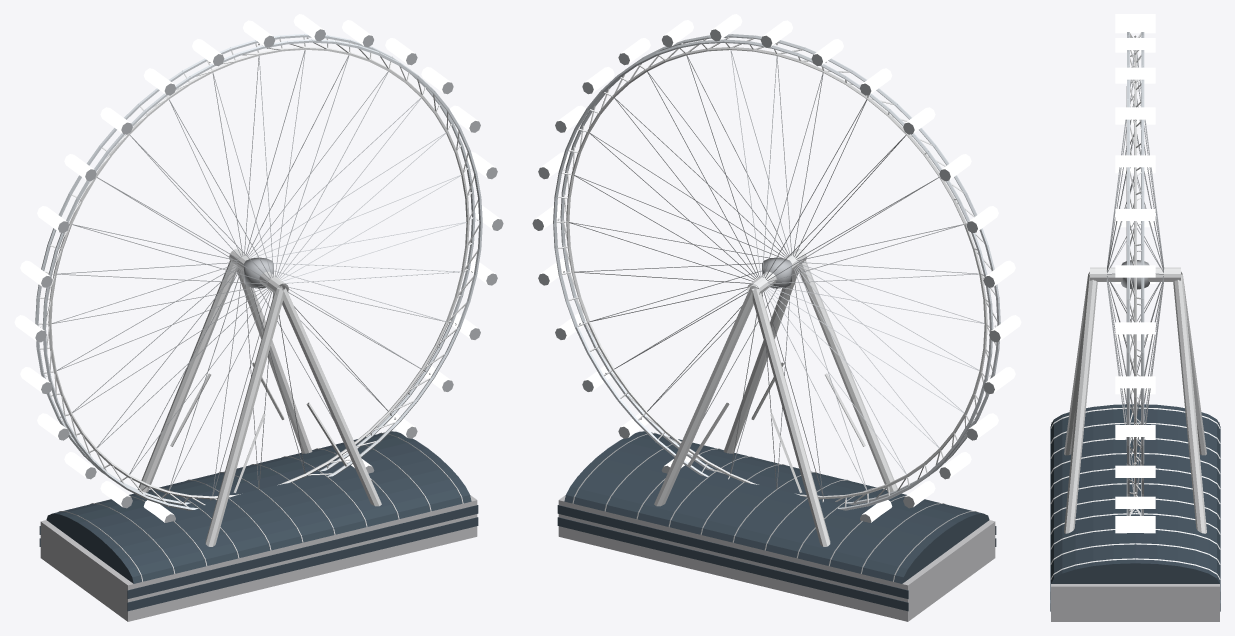
The model's file is singapore_flyer.glb.
The picture shows the model from 3 angles, left to right: view 1: azimuth 30°, elevation 25°; view 2: azimuth 150°, elevation 25°; view 3: azimuth 270°, elevation 25°; orthographic projection. The views are drawn at different scales.
Visible parts, largest first — view 1: terminal, wheel, legs, capsules; view 2: terminal, wheel, legs, capsules; view 3: terminal, wheel, capsules, legs.
Part boxes in pixels (left/top/right/bottom): terminal: left=39, top=431, right=478, bottom=621; wheel: left=35, top=34, right=482, bottom=510; legs: left=138, top=260, right=381, bottom=546; capsules: left=14, top=14, right=503, bottom=522; terminal: left=557, top=431, right=996, bottom=621; wheel: left=553, top=34, right=1000, bottom=510; legs: left=654, top=260, right=897, bottom=546; capsules: left=532, top=14, right=1021, bottom=522; terminal: left=1050, top=404, right=1220, bottom=621; wheel: left=1090, top=32, right=1180, bottom=515; capsules: left=1115, top=14, right=1155, bottom=533; legs: left=1064, top=272, right=1206, bottom=533.
Bounding box in the file's own units: 161 × 170 × 52.4.
